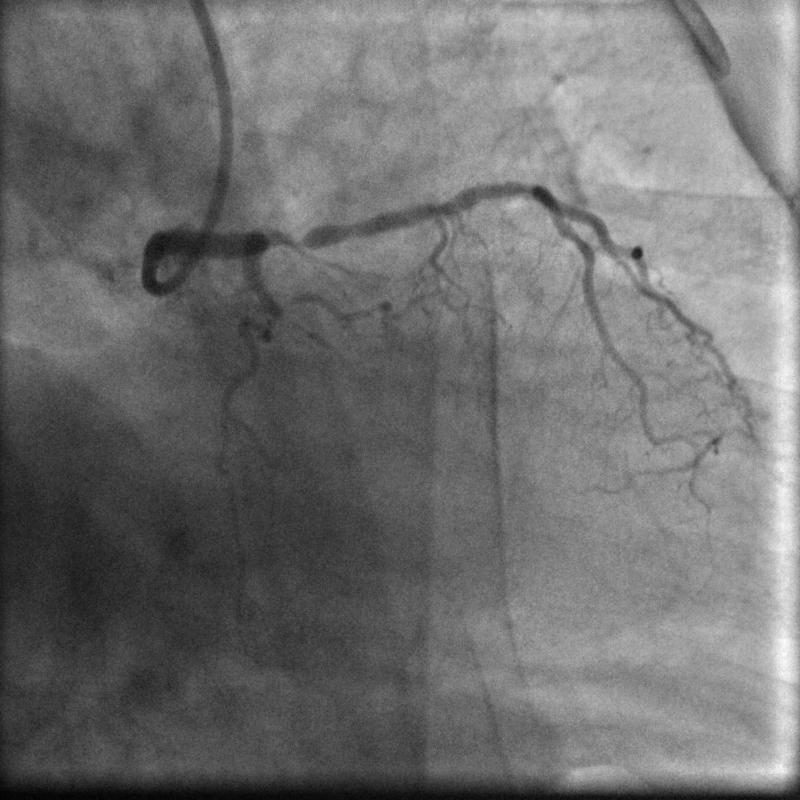Stenosis: (266, 218, 322, 250)
